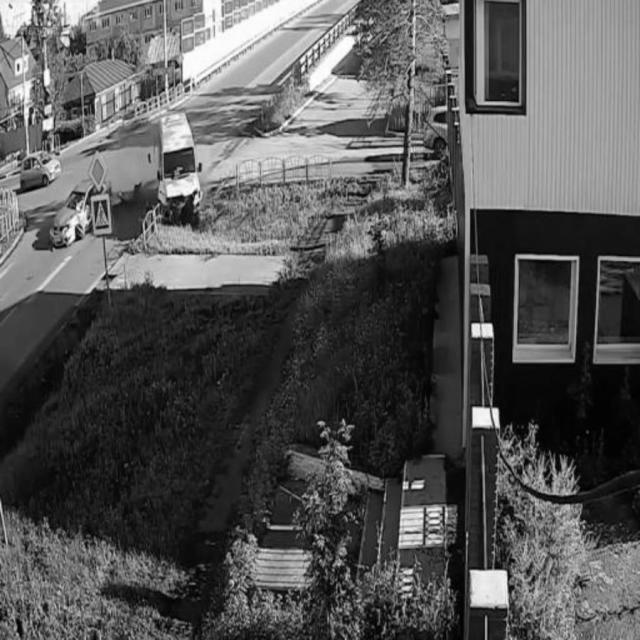vehicle: (161, 108, 205, 212), (47, 179, 111, 243), (19, 149, 64, 189)
